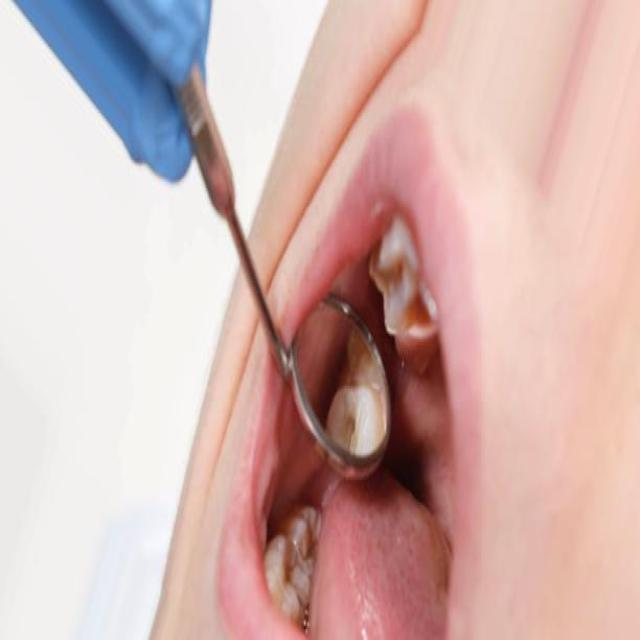caries: (370, 239, 435, 357)
